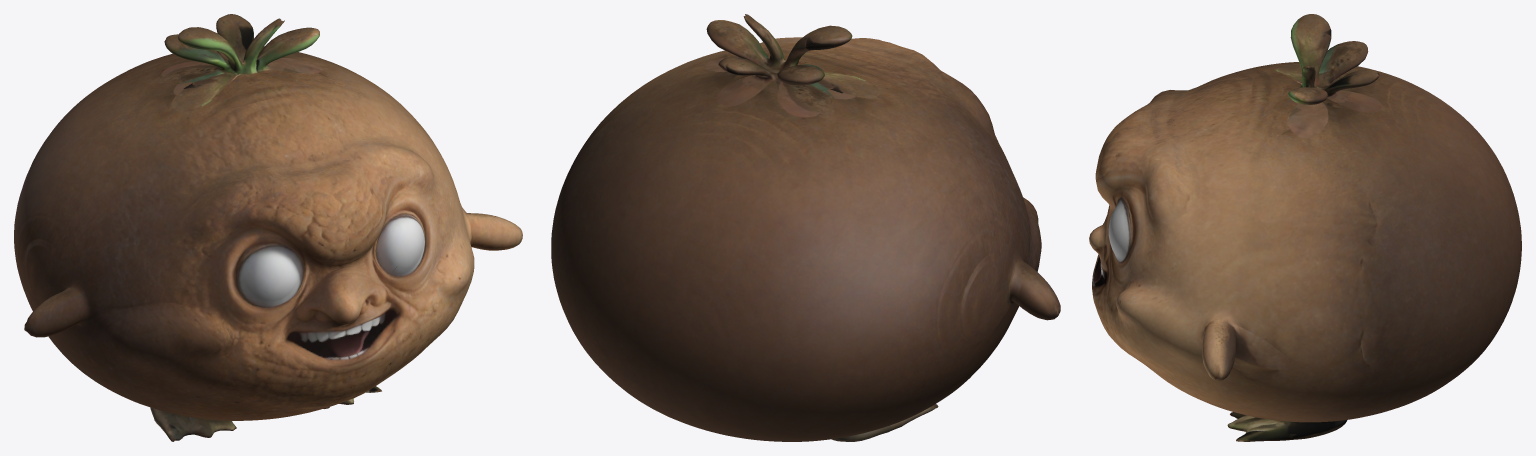
File: crumblo.glb
The picture shows the model from 3 angles, left to right: view 1: azimuth 30°, elevation 25°; view 2: azimuth 150°, elevation 25°; view 3: azimuth 270°, elevation 25°; orthographic projection. The views are drawn at different scales.
Bounding box in the file's own units: 1.71 × 1.31 × 1.42.
1 material, 1 textured.
